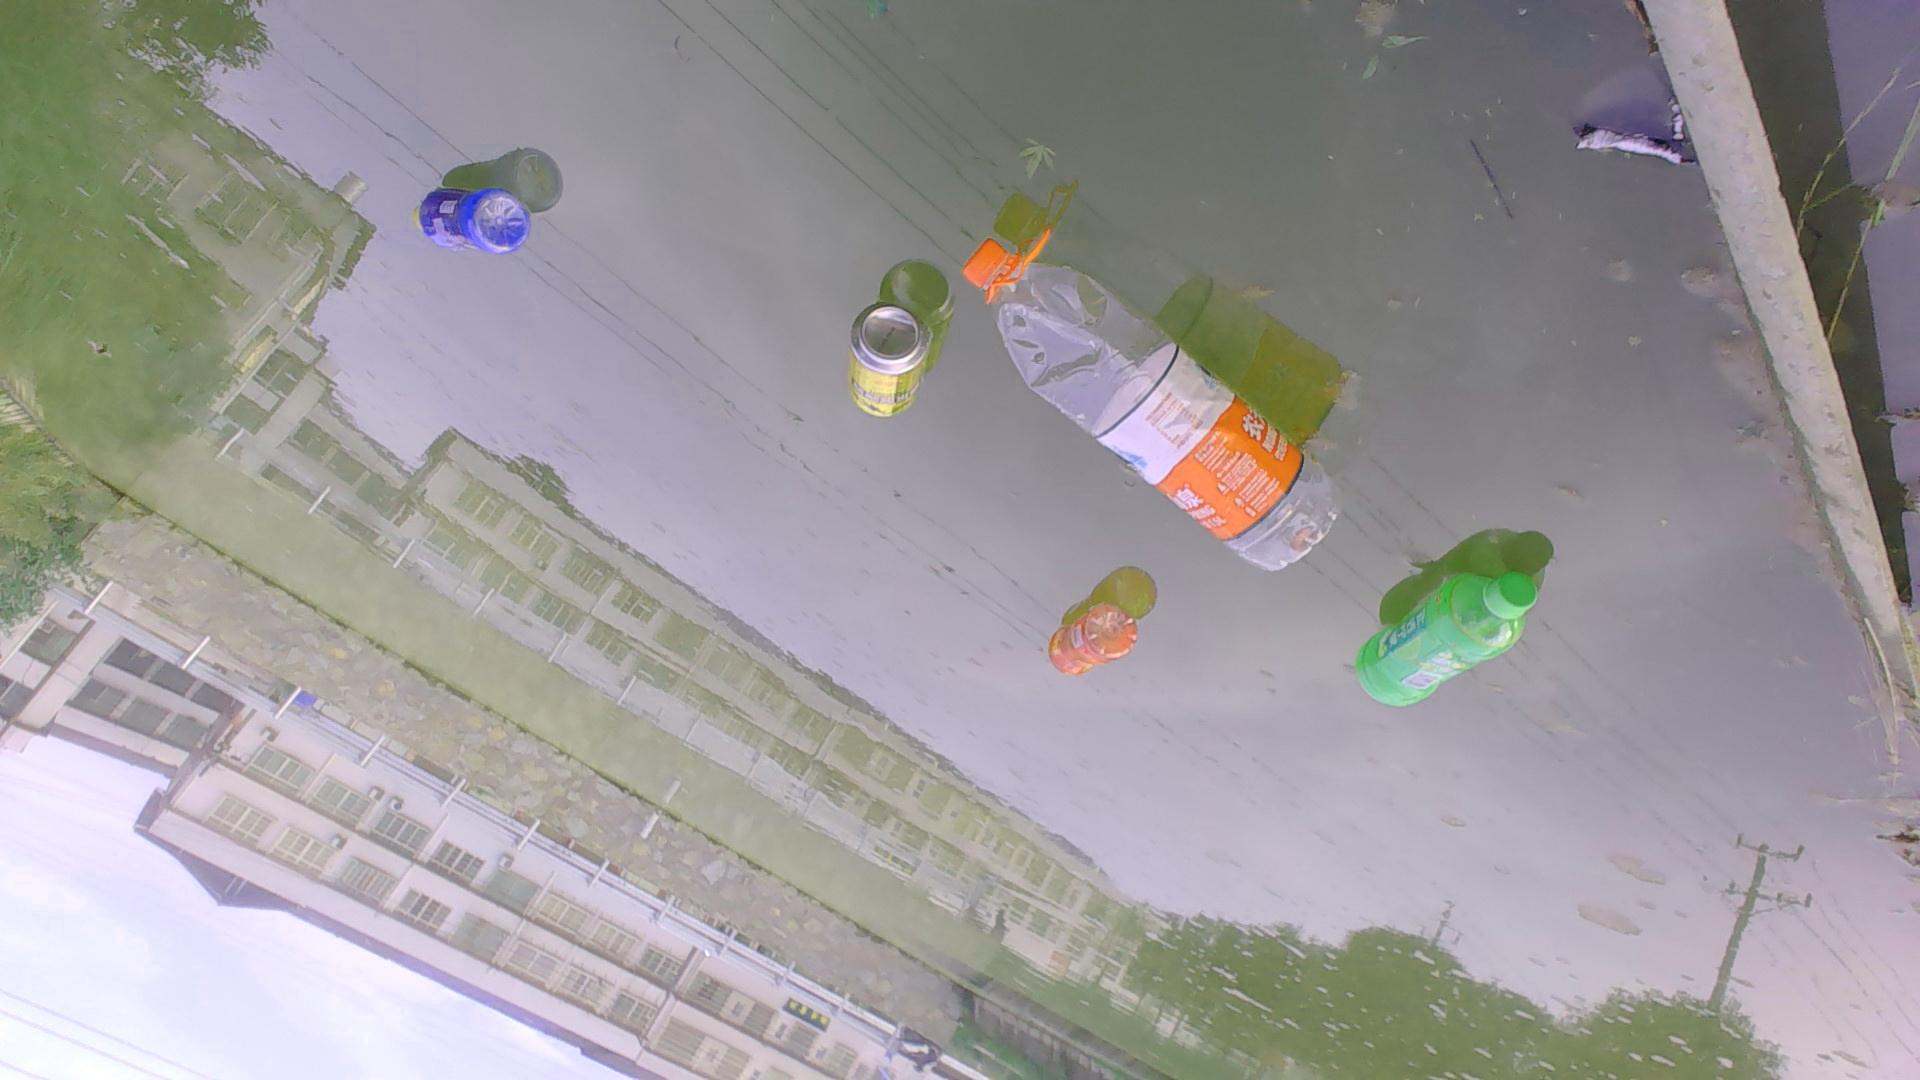Plastic: (957, 223, 1342, 578), (1347, 559, 1548, 725), (842, 301, 938, 431), (407, 184, 534, 262), (1041, 597, 1148, 679)
